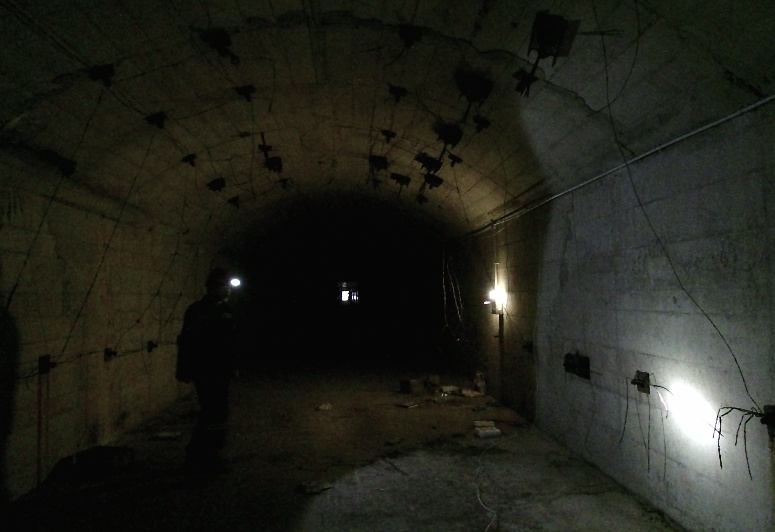person: (168, 270, 261, 476)
